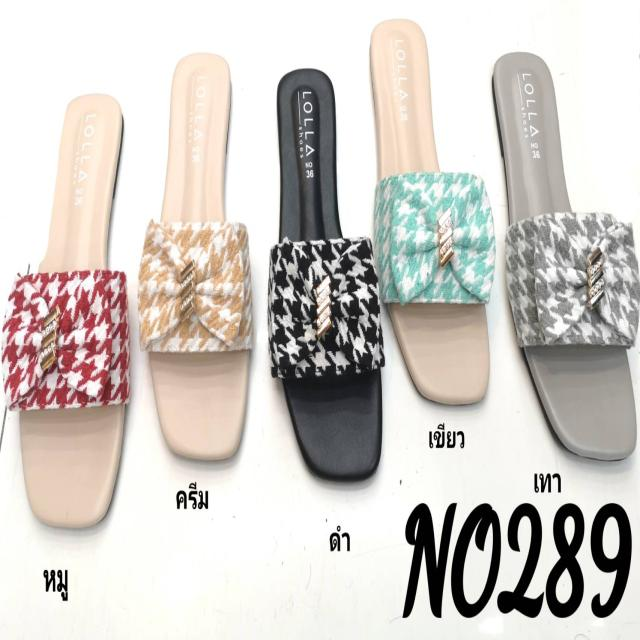black: (274, 67, 378, 482)
cream: (149, 51, 248, 460)
green: (371, 12, 489, 406)
grey: (490, 38, 640, 464)
moo: (17, 91, 125, 522)
